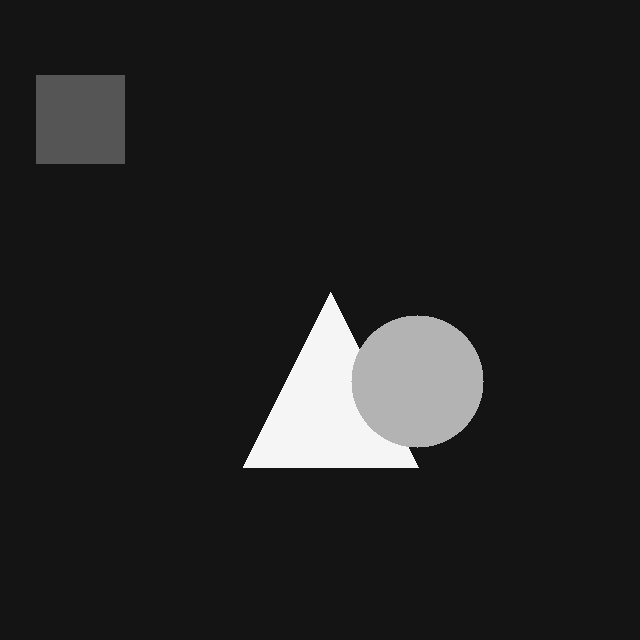circle: (351, 315, 483, 447)
square: (36, 75, 124, 163)
triangle: (243, 292, 418, 467)
